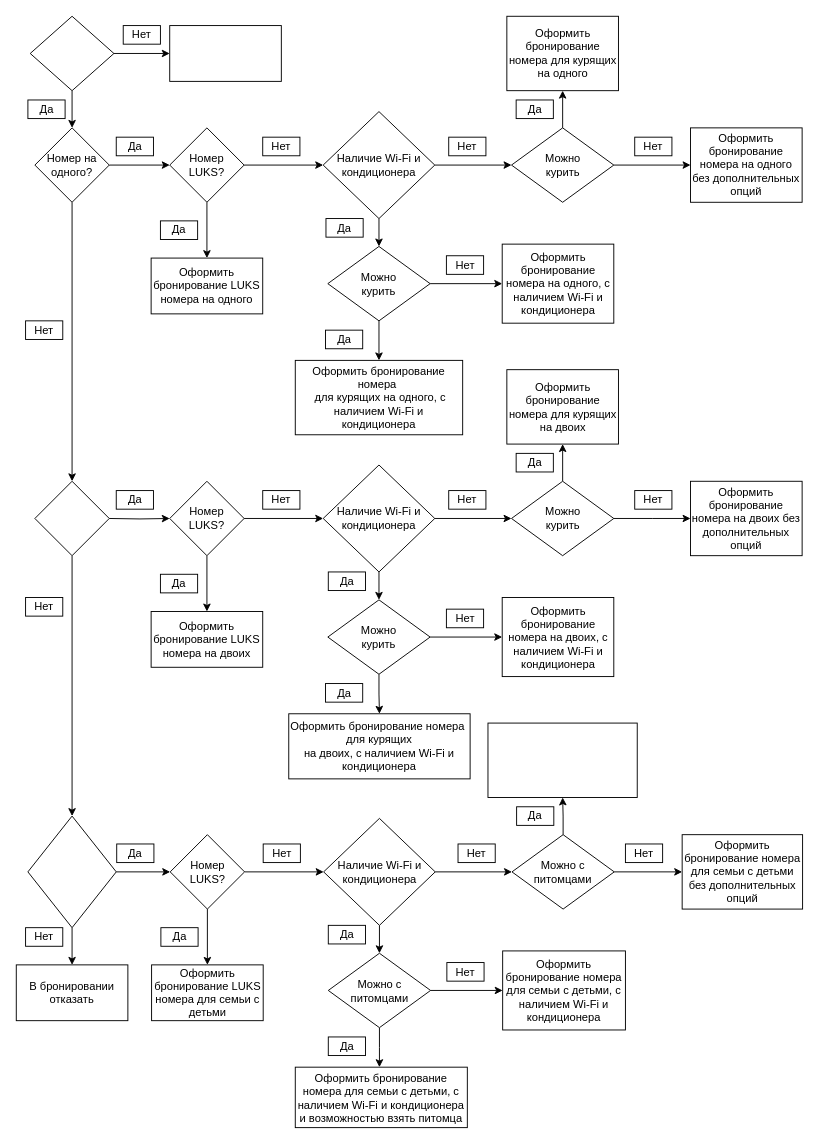
This 819x1144 diagram has some shape labels left out. Here are the shapes that lost their labels. From the top down, the box of each, then its label:
(29, 15, 114, 91): Нужно подобрать номер?
(169, 25, 281, 81): Улучшить маркетинг
(34, 480, 109, 556): Номер на двоих?
(487, 722, 637, 797): Оформить бронирование номера для семьи с детьми и возможностью взять питомца
(27, 815, 116, 928): Номер для семьи с детьми?
